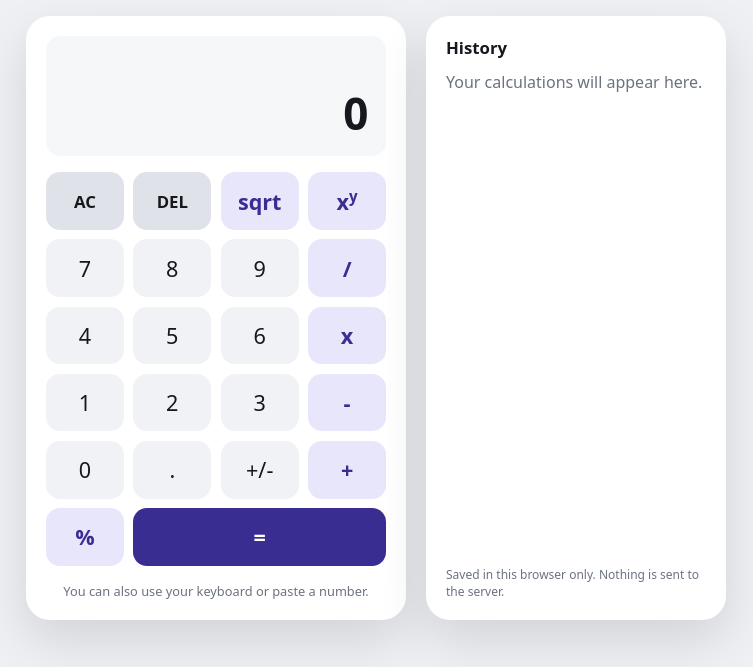
Calculator › edits the entry with the change sign, backspace and clear keys
Click the button "4" at {"x": 85, "y": 335}, box [46,307,124,364]
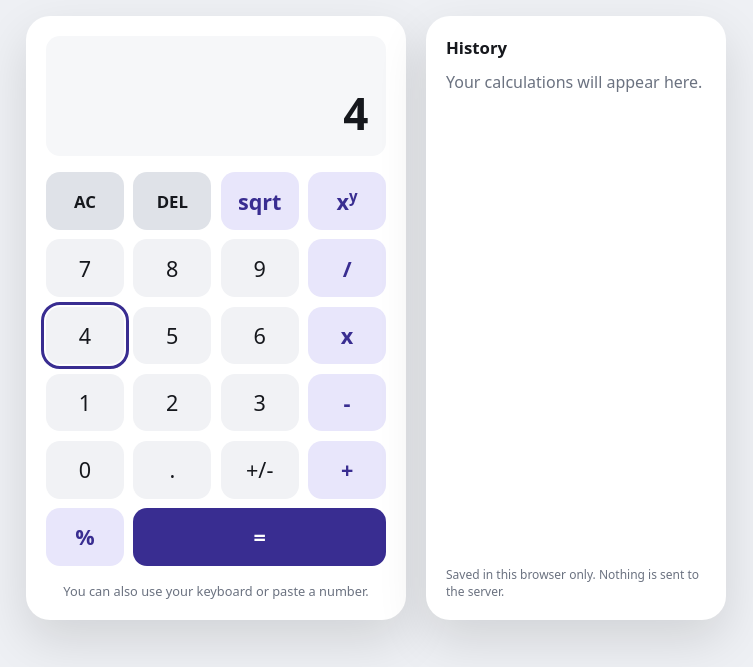
Click the button "2" at {"x": 172, "y": 403}, box [133,374,211,431]
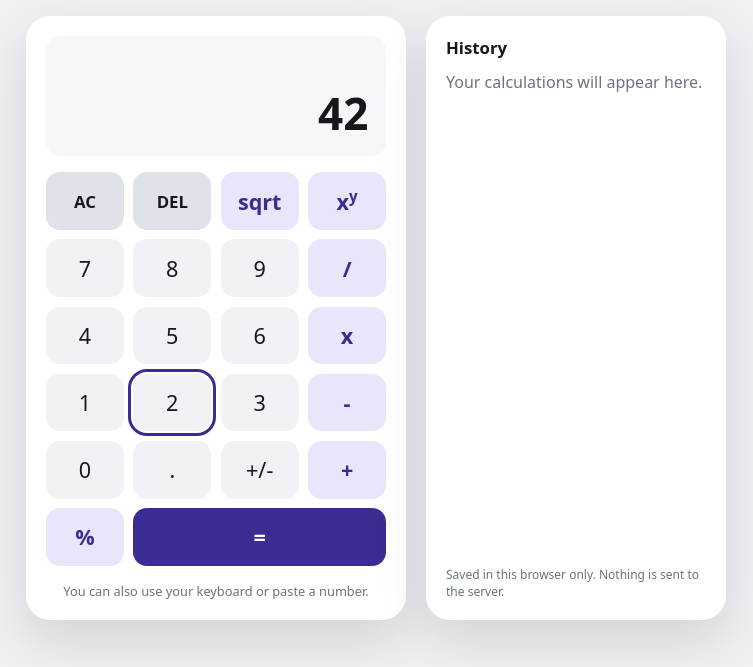
Click the button named "Change sign" at {"x": 260, "y": 470}, box [221,441,299,499]
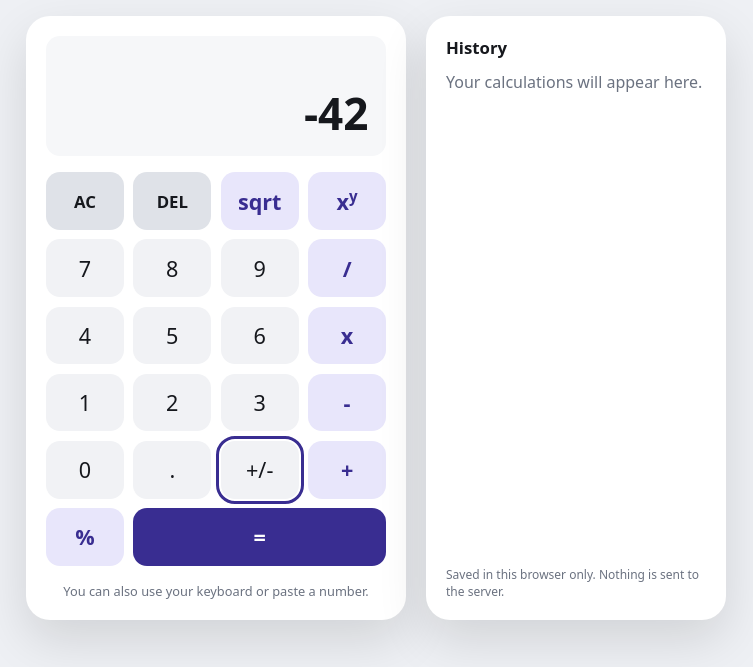
Check: the text with test id "display" reads "-42", box [304,83,368,143]
Click the button with aria-label "Backspace" at {"x": 172, "y": 201}, box [133,172,211,230]
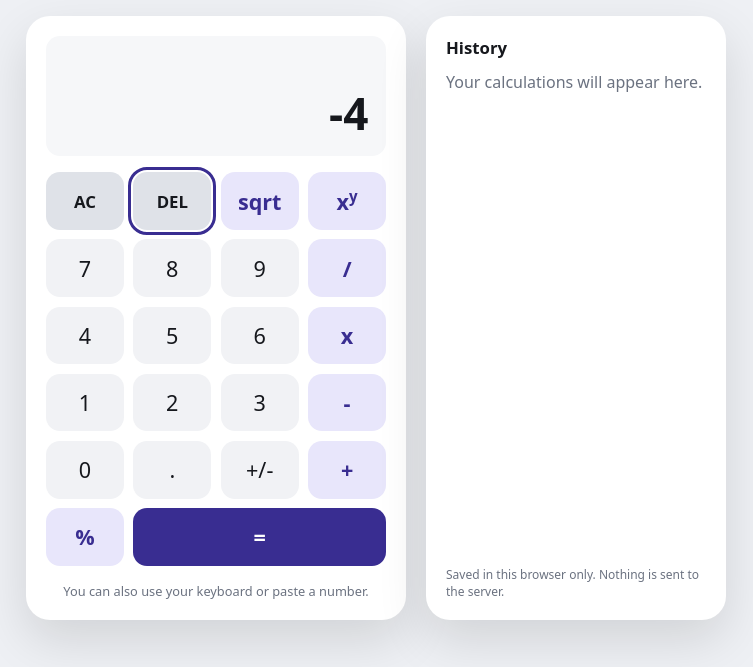
Check: the text with test id "display" reads "-4", box [329,83,368,143]
Type keys "{Control>}5{/Control}"
Check: the text with test id "display" reads "-4", box [329,83,368,143]
Click the button with aria-label "All clear" at {"x": 85, "y": 201}, box [46,172,124,230]
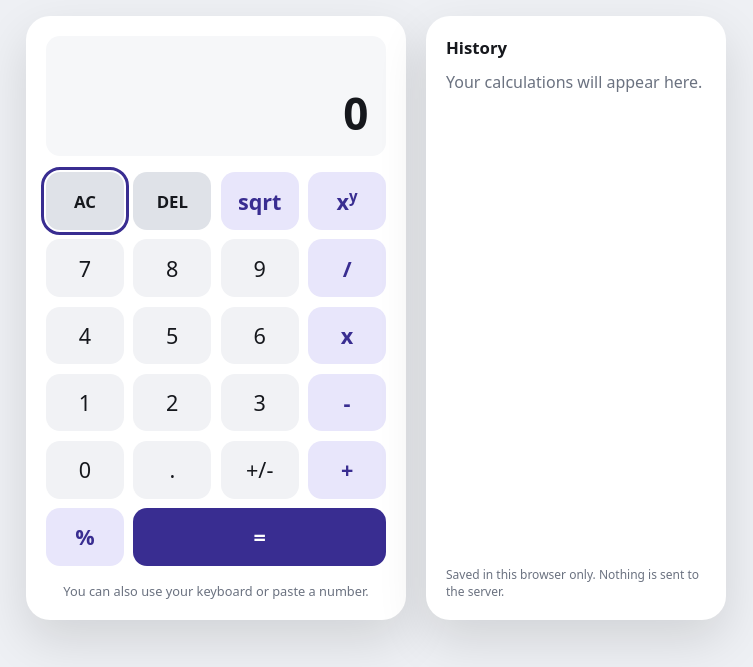
Check: the text with test id "display" reads "0", box [343,83,368,143]
